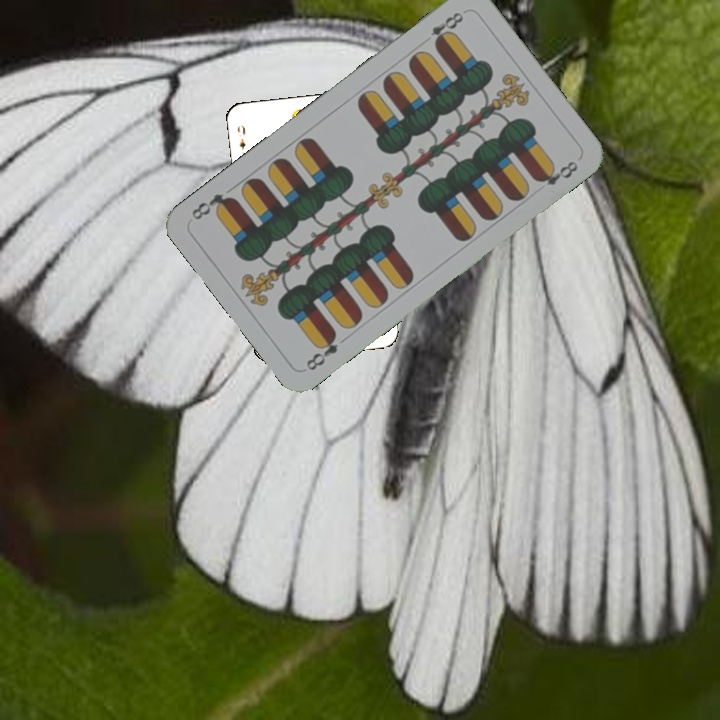E8: (301, 327, 341, 373), (426, 7, 466, 50)
E9: (233, 121, 248, 152)
